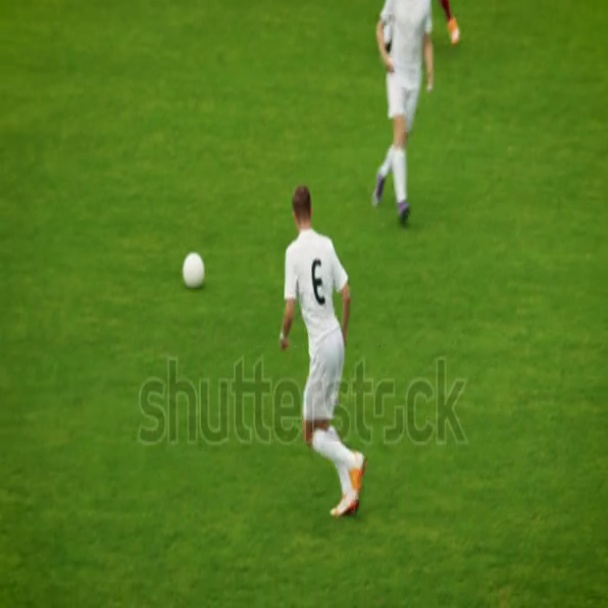ball: (185, 252, 202, 281)
